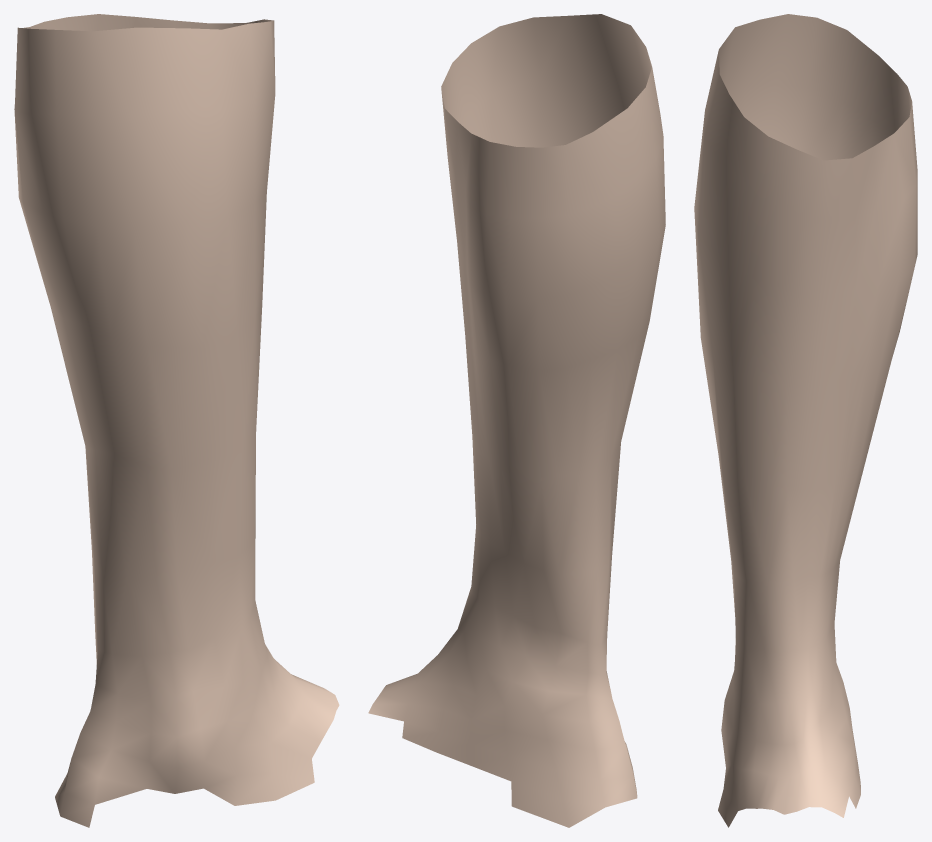
Rendered from human_rightlowerleg.dae.
3 views of the same model, side by side, from view 1: azimuth 30°, elevation 25°; view 2: azimuth 150°, elevation 25°; view 3: azimuth 270°, elevation 25° (orthographic). The views are drawn at different scales.
Visible parts, largest first — view 1: frank_skeleton-base; view 2: frank_skeleton-base; view 3: frank_skeleton-base.
Part boxes in pixels (x1,y1,x2,y2): frank_skeleton-base: (14, 14, 339, 827); frank_skeleton-base: (368, 14, 665, 827); frank_skeleton-base: (694, 14, 917, 827).
Bounding box in the file's own units: 0.1597 × 0.1134 × 0.4203.
